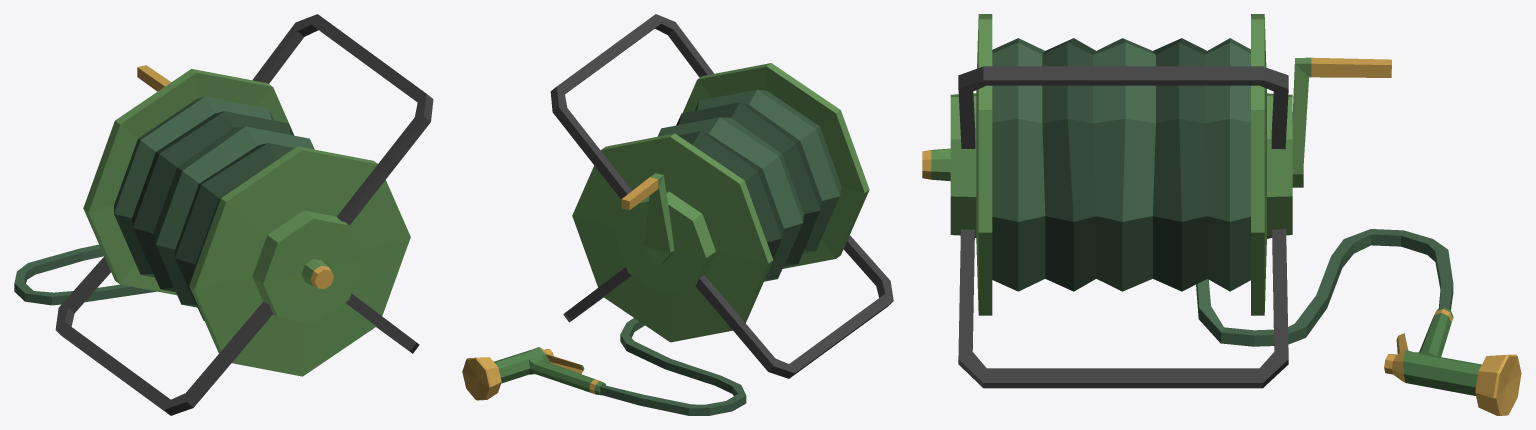
Rendered from SM_Prop_HoseReel_01.fbx.
3 renders of one model, left to right at view 1: azimuth 30°, elevation 25°; view 2: azimuth 150°, elevation 25°; view 3: azimuth 270°, elevation 25°, orthographic. The views are drawn at different scales.
Visible parts, largest first — view 1: SM_Prop_HoseReel_01; view 2: SM_Prop_HoseReel_01; view 3: SM_Prop_HoseReel_01.
Boxes of the visible parts, x1,y1,x2,y2 form: SM_Prop_HoseReel_01: (14,14,433,415); SM_Prop_HoseReel_01: (462,14,893,415); SM_Prop_HoseReel_01: (922,14,1521,415).
Size of the model in its own units: 56.77 by 54.08 by 83.04.
